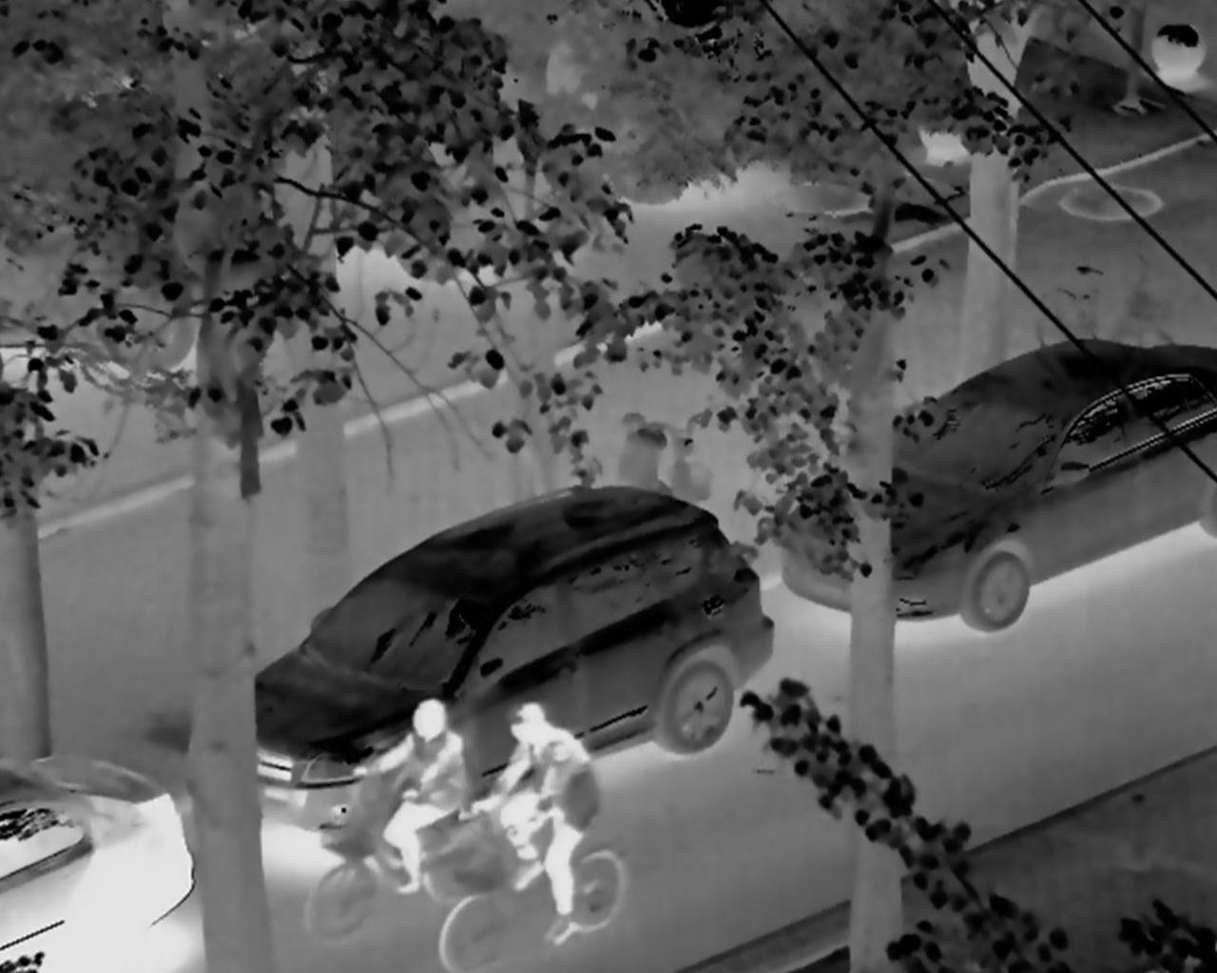person: (447, 710, 636, 947), (330, 692, 479, 924)
